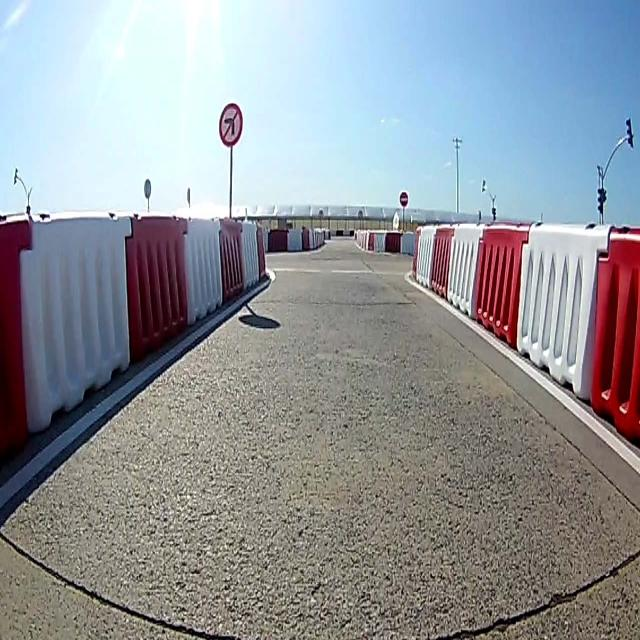girisyok: (400, 187, 408, 210)
soladonulmez: (219, 102, 242, 150)
